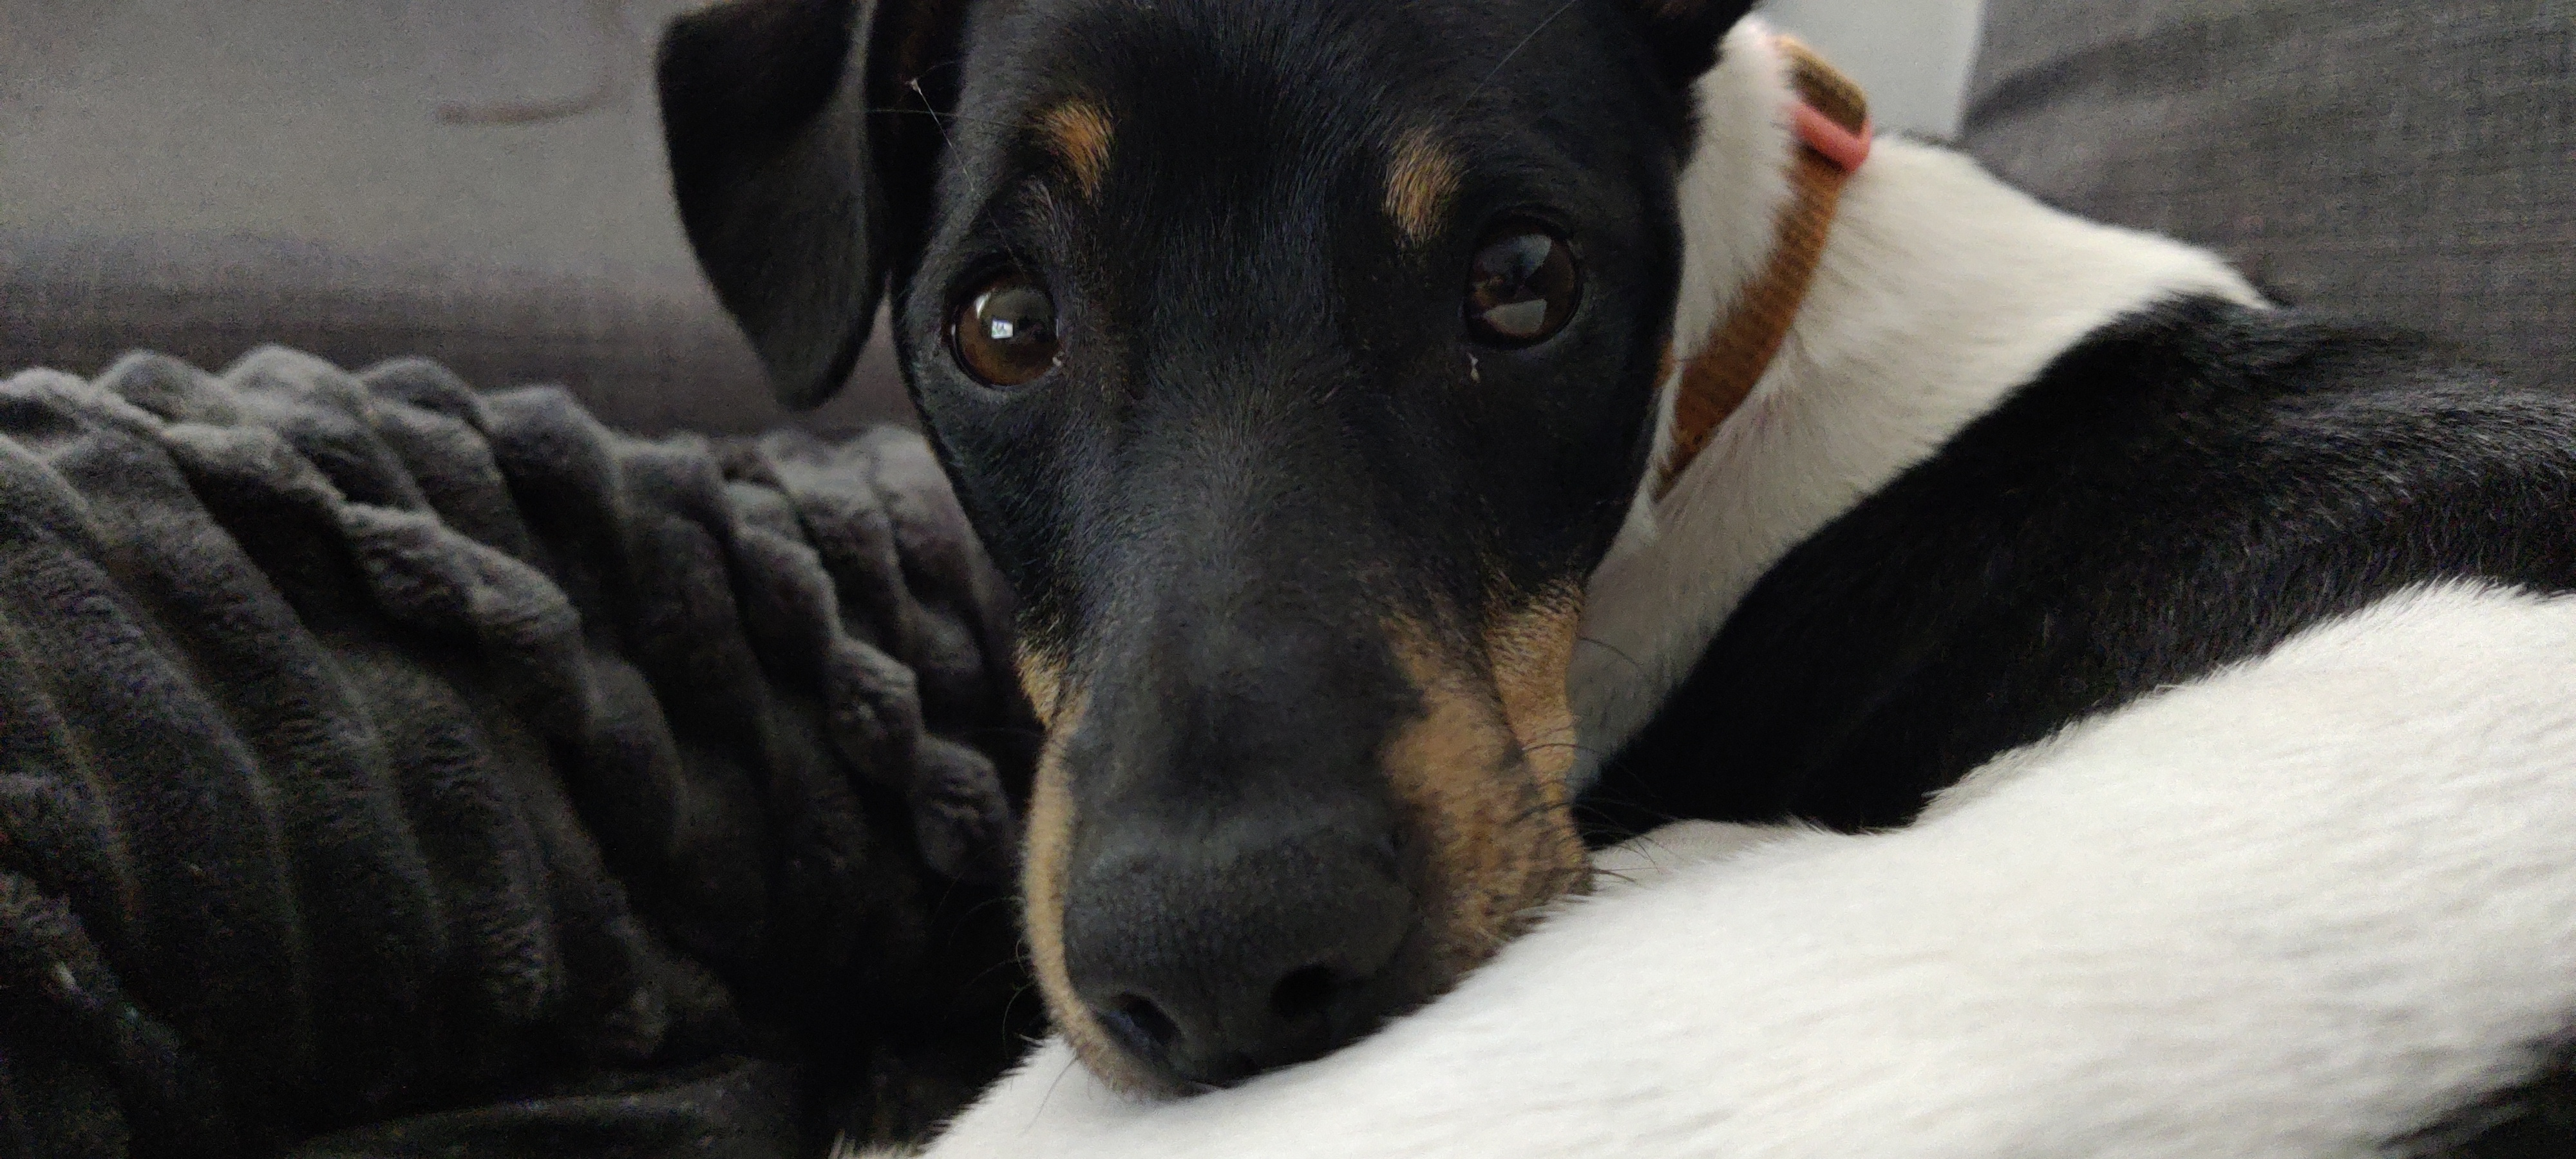Dog: (631, 0, 2576, 1159)
